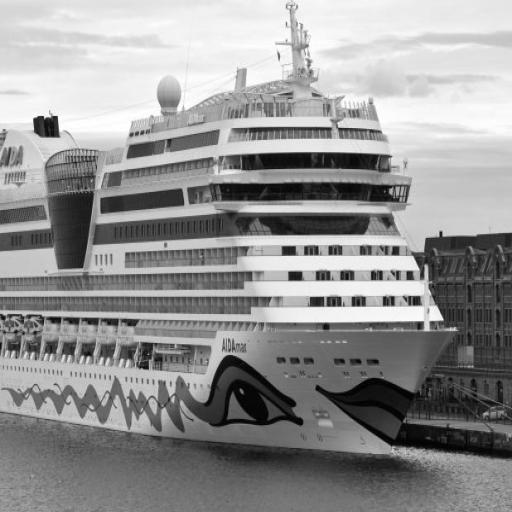cruises: (1, 1, 462, 472)
